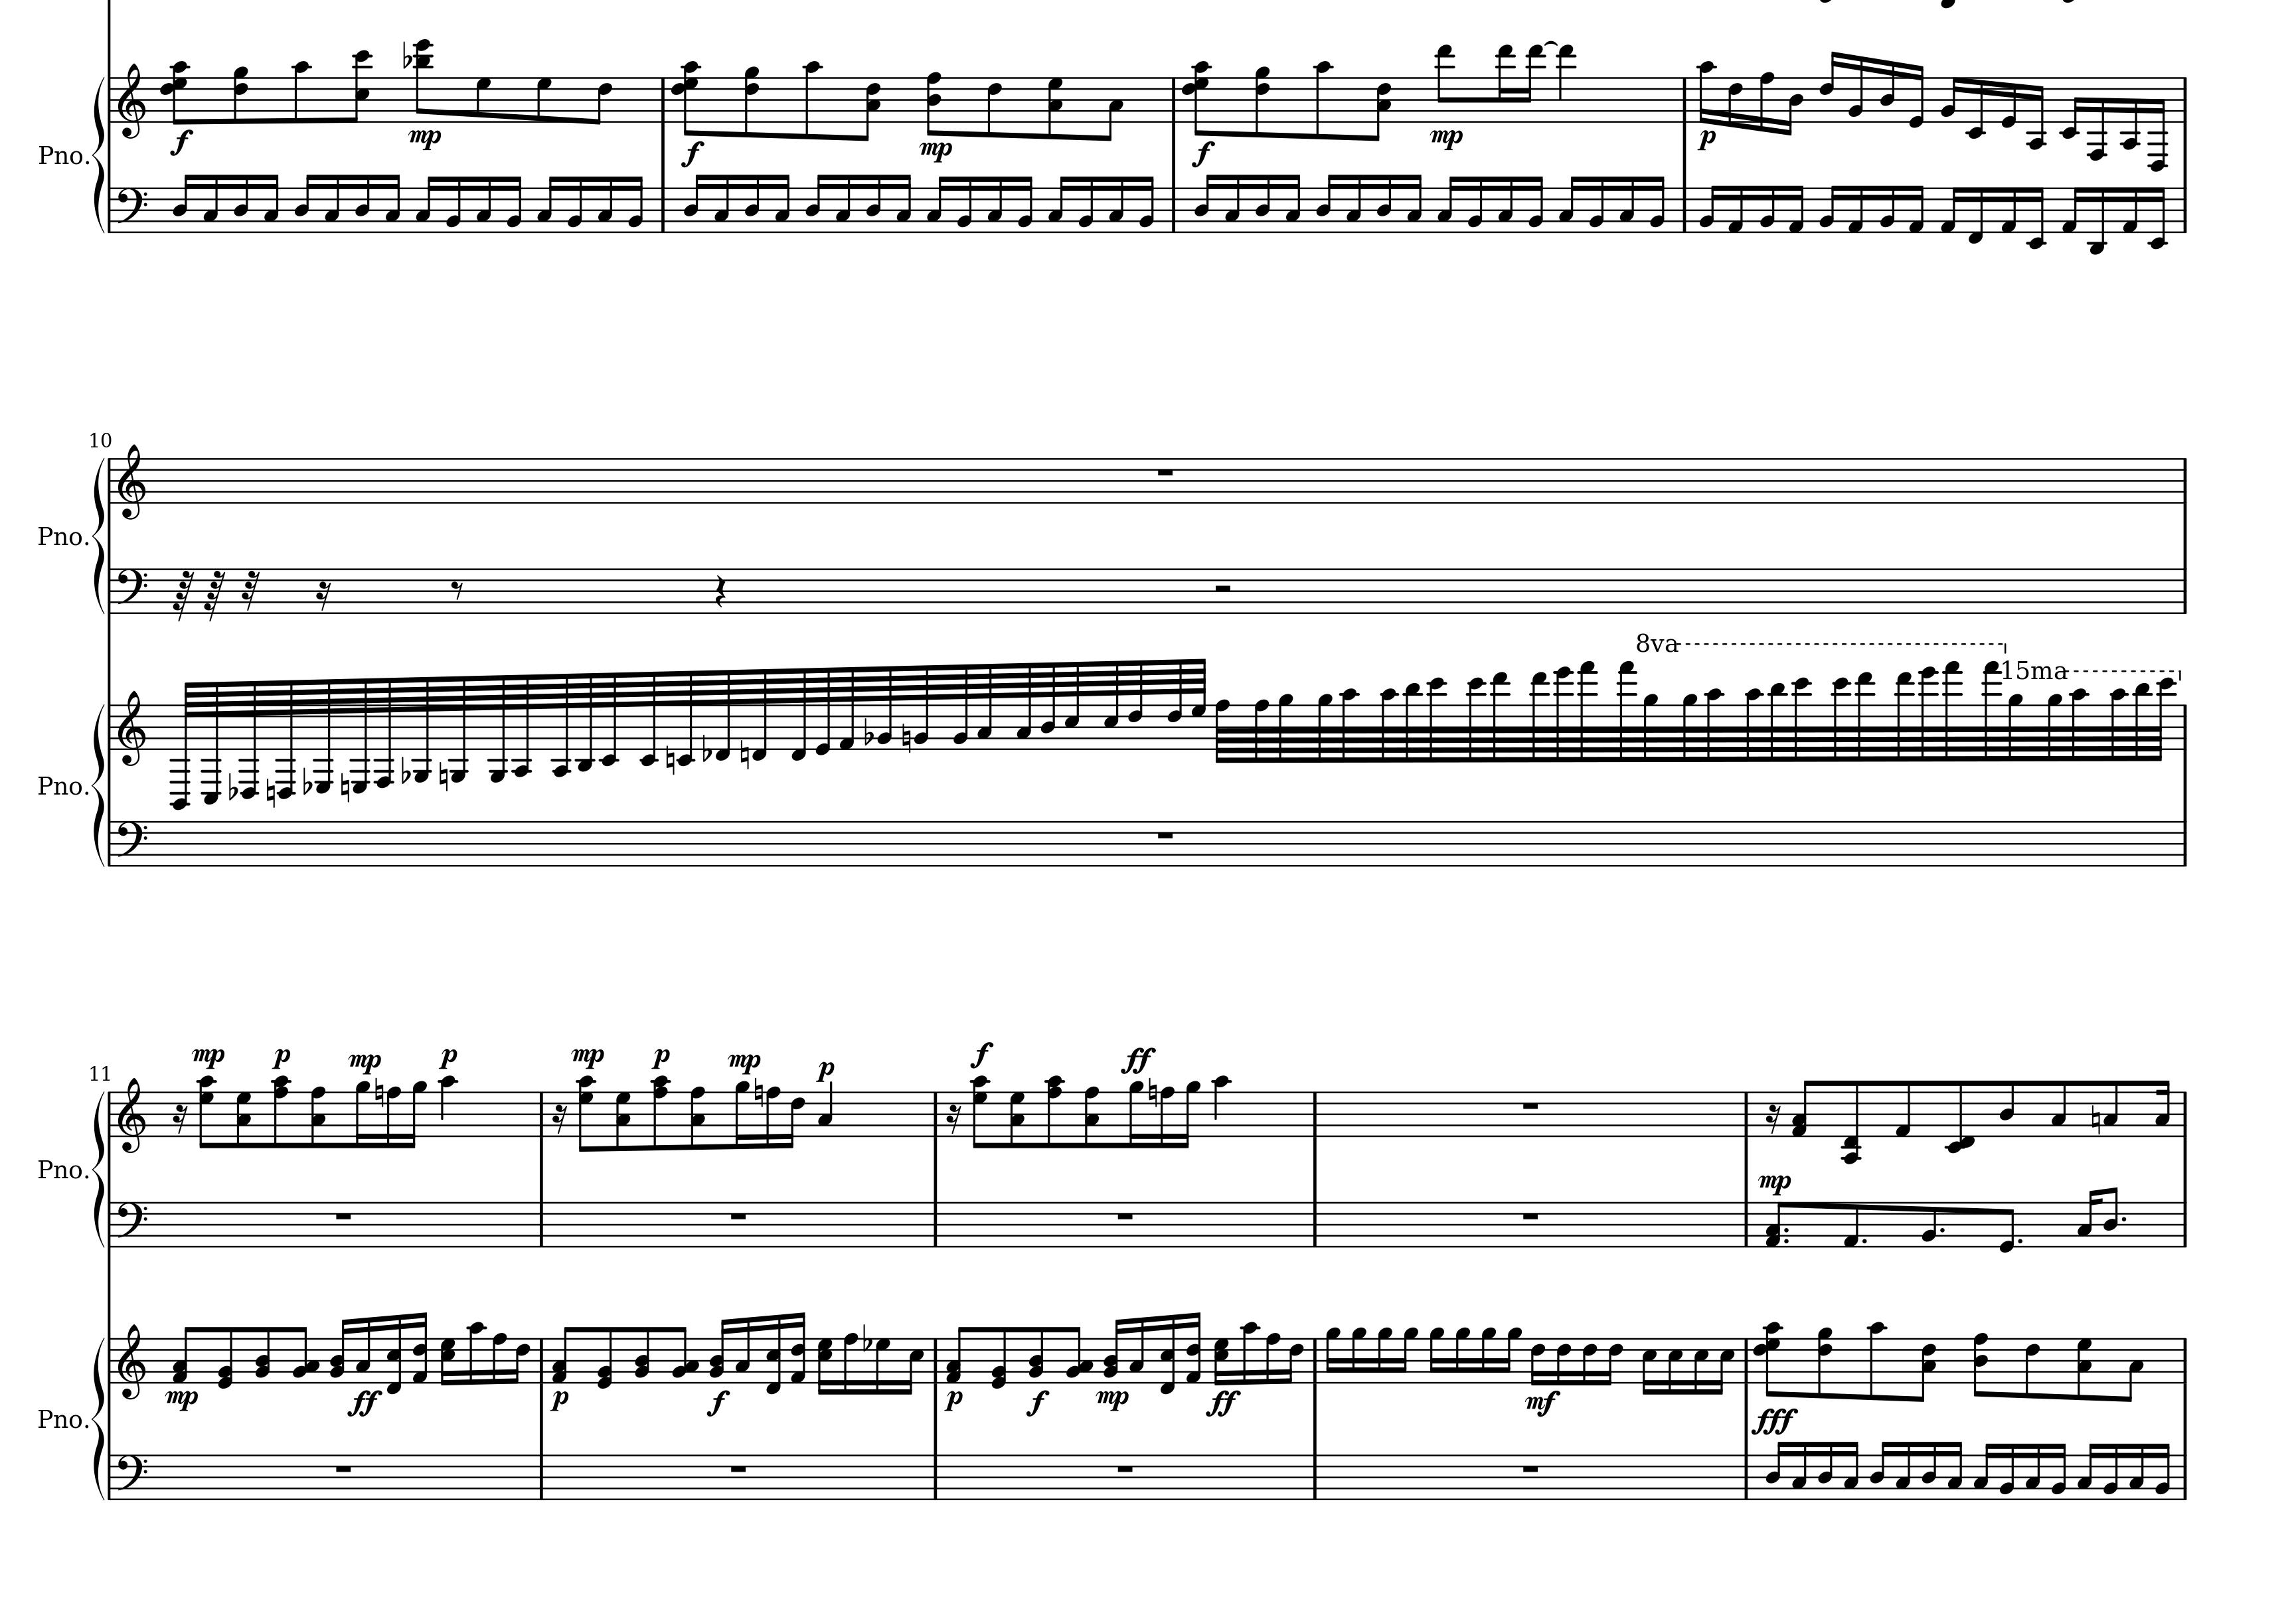0: (98, 429, 112, 448)
1: (88, 429, 98, 448)
16_-1: (1967, 184, 1985, 244)
16_-1_5: (385, 1314, 404, 1395), (764, 1314, 783, 1395), (1158, 1314, 1177, 1395)
16_-2: (2059, 76, 2082, 139), (1966, 74, 1985, 139), (2027, 184, 2047, 249), (2148, 184, 2166, 249)
16_-3: (2087, 184, 2106, 255)
16_-4: (2025, 76, 2047, 151), (2120, 74, 2141, 149)
16_-6: (2087, 74, 2106, 162)
16_-8: (2148, 76, 2168, 172)
16_0: (1908, 63, 1925, 128), (1999, 76, 2018, 128)
16_1: (1939, 184, 1962, 234), (2061, 184, 2082, 234), (1787, 183, 1806, 234), (1999, 184, 2018, 234), (1727, 183, 1744, 234), (1846, 183, 1864, 234), (1908, 183, 1925, 234), (2122, 184, 2140, 234)
16_10: (1697, 60, 1716, 123), (467, 1321, 485, 1384), (1242, 1321, 1258, 1384)
16_13: (1523, 44, 1546, 123), (1495, 42, 1516, 123)
16_1_6: (1184, 1310, 1203, 1386), (791, 1310, 808, 1386), (413, 1312, 430, 1384)
16_2: (1697, 183, 1722, 234), (1846, 53, 1864, 123), (1818, 183, 1841, 234), (444, 174, 464, 234), (504, 174, 523, 234), (566, 174, 585, 234), (625, 174, 645, 234), (1077, 174, 1096, 234), (1137, 174, 1156, 234), (1527, 174, 1546, 234), (1648, 174, 1667, 234), (1017, 174, 1035, 234), (1467, 174, 1484, 234), (1588, 174, 1606, 234), (2154, 1440, 2171, 1500), (2103, 1442, 2120, 1500), (1939, 76, 1960, 123), (957, 174, 973, 234), (1999, 1440, 2015, 1500), (2052, 1442, 2068, 1500), (1758, 183, 1776, 234), (1880, 183, 1895, 234)
16_2_4: (1103, 1317, 1124, 1386), (329, 1319, 350, 1384), (710, 1319, 731, 1382)
16_3: (1435, 172, 1460, 234), (413, 174, 437, 234), (1556, 174, 1581, 234), (2076, 1187, 2101, 1247), (536, 174, 559, 234), (926, 174, 949, 234), (1047, 174, 1070, 234), (1973, 1440, 1994, 1500), (2076, 1442, 2097, 1500), (262, 172, 281, 234), (323, 172, 343, 234), (383, 172, 402, 234), (713, 172, 733, 234), (834, 172, 854, 234), (474, 174, 494, 234), (773, 174, 792, 234), (1497, 174, 1516, 234), (734, 1316, 750, 1384), (1130, 1316, 1145, 1384), (202, 172, 220, 234), (894, 172, 912, 234), (1224, 172, 1242, 234), (1284, 172, 1302, 234), (1346, 172, 1363, 234), (1895, 1439, 1913, 1500), (597, 174, 615, 234), (1108, 174, 1126, 234), (1405, 174, 1423, 234), (1618, 174, 1635, 234), (1946, 1440, 1964, 1500), (2154, 1078, 2171, 1136), (2024, 1442, 2041, 1500), (1843, 1439, 1859, 1500), (357, 1316, 371, 1384), (987, 174, 1003, 234), (1792, 1440, 1808, 1500), (2129, 1442, 2145, 1500)
16_4: (293, 172, 316, 234), (805, 172, 827, 234), (1193, 172, 1216, 234), (172, 172, 193, 234), (683, 172, 704, 234), (1316, 172, 1337, 234), (1869, 1439, 1890, 1500), (1765, 1440, 1787, 1500), (353, 172, 372, 234), (864, 172, 884, 234), (1254, 172, 1274, 234), (1785, 76, 1804, 135), (1878, 58, 1895, 123), (234, 172, 251, 234), (745, 172, 762, 234), (1375, 172, 1393, 234), (1920, 1440, 1938, 1500), (1818, 1440, 1834, 1500)
16_5: (905, 1337, 924, 1395), (1716, 1337, 1736, 1395), (1641, 1337, 1657, 1395), (1667, 1337, 1683, 1395), (1693, 1337, 1709, 1395)
16_5_7: (817, 1337, 834, 1396), (439, 1337, 457, 1386)
16_6: (1818, 49, 1841, 123), (1602, 1337, 1625, 1386), (787, 1091, 806, 1149), (1286, 1337, 1305, 1384), (513, 1337, 531, 1386), (1727, 76, 1743, 128), (1530, 1337, 1546, 1386), (1556, 1337, 1572, 1386), (1581, 1337, 1597, 1386)
16_7: (875, 1335, 891, 1396)
16_8: (386, 1084, 402, 1149), (766, 1086, 782, 1151), (1159, 1084, 1175, 1149), (1758, 70, 1774, 133), (843, 1331, 857, 1396), (1265, 1331, 1281, 1384), (492, 1331, 506, 1384)
16_9: (406, 1078, 429, 1151), (1179, 1078, 1202, 1149), (734, 1078, 750, 1151), (1428, 1326, 1448, 1384), (1504, 1326, 1523, 1384), (1130, 1078, 1145, 1149), (355, 1078, 371, 1147), (1377, 1326, 1395, 1384), (1402, 1326, 1419, 1384), (1455, 1326, 1472, 1384), (1479, 1326, 1497, 1384), (1326, 1326, 1342, 1384), (1353, 1326, 1368, 1384)
4_10: (1212, 1073, 1233, 1136), (441, 1075, 458, 1136)
4_13: (1556, 44, 1576, 125)
4_3: (817, 1082, 834, 1136)
64_-1: (750, 666, 769, 761), (789, 666, 808, 761), (715, 669, 733, 762)
64_-10: (169, 682, 193, 810)
64_-2: (639, 669, 659, 766), (676, 669, 696, 766), (601, 669, 618, 766)
64_-3: (576, 671, 596, 773)
64_-4: (552, 671, 571, 780), (513, 673, 532, 778)
64_-5: (411, 676, 432, 783), (446, 674, 467, 782), (490, 674, 508, 783)
64_-6: (374, 676, 395, 789)
64_-7: (348, 676, 371, 794), (313, 678, 334, 794)
64_-8: (237, 680, 260, 799), (276, 678, 299, 797)
64_-9: (200, 680, 221, 804)
64_0: (813, 666, 833, 755)
64_1: (838, 666, 856, 752)
64_10: (1340, 687, 1360, 762), (2069, 687, 2089, 762), (1379, 685, 1397, 762), (2110, 685, 2127, 762), (1706, 685, 1723, 761), (1744, 687, 1762, 762)
64_11: (2133, 680, 2152, 762), (1404, 680, 1421, 764), (1769, 682, 1787, 762)
64_12: (1425, 676, 1446, 764), (2155, 676, 2177, 764), (1467, 674, 1486, 764), (1792, 674, 1811, 762), (1832, 676, 1852, 762)
64_13: (1530, 671, 1549, 762), (1491, 669, 1509, 762), (1857, 671, 1874, 764), (1895, 671, 1913, 764)
64_14: (1553, 666, 1574, 762), (1918, 666, 1939, 762)
64_15: (1576, 660, 1599, 762), (1982, 660, 2003, 764), (1616, 660, 1637, 762), (1943, 659, 1962, 762)
64_2: (913, 664, 931, 750), (877, 666, 894, 750), (952, 662, 968, 750)
64_3: (1015, 660, 1033, 750), (977, 662, 993, 750)
64_4: (1040, 660, 1056, 750)
64_5: (1101, 659, 1119, 750), (1063, 660, 1080, 750)
64_6: (1126, 659, 1144, 750), (1166, 659, 1184, 748)
64_7: (1191, 659, 1207, 752)
64_8: (1214, 696, 1231, 764), (1254, 696, 1270, 764)
64_9: (1277, 692, 1295, 764), (1318, 692, 1333, 764), (1683, 692, 1699, 764), (2008, 690, 2024, 762), (1643, 692, 1658, 762), (2048, 690, 2062, 762)
8_-2_-1: (1943, 1078, 1978, 1154)
8_-4_-1: (1839, 1078, 1864, 1165)
8_0: (1999, 1201, 2017, 1252)
8_0_2: (216, 1326, 234, 1389), (596, 1326, 613, 1389), (991, 1326, 1008, 1389)
8_1: (1894, 1078, 1911, 1138), (1843, 1200, 1860, 1247)
8_10: (803, 58, 826, 141), (1312, 58, 1335, 141), (1867, 1319, 1887, 1402), (292, 58, 313, 125)
8_11_14: (413, 35, 436, 123)
8_13: (1435, 42, 1455, 121)
8_1_3: (1790, 1078, 1816, 1138), (945, 1326, 970, 1384), (172, 1326, 197, 1382), (552, 1326, 574, 1384), (1765, 1200, 1787, 1247)
8_2: (1922, 1200, 1938, 1249)
8_2_3: (1065, 1326, 1094, 1384), (292, 1324, 320, 1384), (671, 1326, 699, 1384)
8_2_4: (1028, 1326, 1045, 1386), (255, 1326, 271, 1386), (634, 1326, 650, 1384)
8_3: (1103, 74, 1126, 142), (2122, 1337, 2145, 1403), (2050, 1078, 2068, 1138), (2103, 1078, 2119, 1136)
8_3_6: (857, 76, 882, 142), (1370, 76, 1393, 142), (1918, 1337, 1938, 1403)
8_3_7: (1047, 74, 1065, 141), (1008, 1091, 1026, 1151), (2076, 1337, 2092, 1400), (615, 1091, 631, 1152)
8_3_8: (1084, 1086, 1101, 1149), (690, 1086, 706, 1151), (311, 1086, 327, 1149), (235, 1091, 251, 1149)
8_4: (1999, 1078, 2015, 1136), (2105, 1186, 2119, 1247)
8_4_8: (926, 70, 943, 137), (1973, 1331, 1990, 1398)
8_5_10: (346, 47, 372, 123)
8_6: (590, 76, 613, 125), (2024, 1337, 2041, 1400), (987, 76, 1003, 139)
8_6_9: (743, 65, 762, 139), (1254, 65, 1272, 139), (1816, 1326, 1834, 1398), (232, 65, 249, 125)
8_7: (536, 76, 553, 123), (476, 76, 492, 123)
8_7_10: (968, 1075, 991, 1151), (574, 1075, 596, 1152), (195, 1075, 216, 1149)
8_8_10: (1042, 1075, 1066, 1151), (271, 1075, 292, 1151), (650, 1075, 671, 1151)
8_th: (1755, 1319, 1785, 1398), (671, 63, 703, 137), (158, 58, 190, 125)
Brace: (90, 699, 105, 868), (90, 1333, 105, 1502), (91, 453, 105, 615), (91, 1089, 105, 1249), (91, 76, 105, 234)
Fclef: (114, 181, 153, 234), (114, 817, 155, 864), (114, 566, 148, 615), (114, 1200, 148, 1247), (114, 1453, 148, 1500)
Flat: (401, 39, 413, 69), (399, 755, 411, 785), (863, 715, 873, 747), (861, 1321, 871, 1352), (227, 771, 237, 801), (302, 766, 313, 796), (701, 732, 711, 762)
Gclef: (118, 687, 155, 775), (116, 60, 151, 142), (116, 441, 149, 522), (118, 1075, 148, 1154), (118, 1324, 146, 1398)
Natural: (2089, 1103, 2101, 1136), (339, 769, 350, 804), (437, 759, 448, 792), (740, 738, 750, 771), (901, 720, 912, 754), (664, 743, 675, 775), (372, 1075, 383, 1107), (1147, 1077, 1158, 1108), (265, 776, 274, 810), (754, 1075, 762, 1107)
Pno: (39, 141, 83, 167), (35, 523, 83, 546), (37, 1158, 81, 1180), (37, 775, 83, 796), (37, 1407, 83, 1428)
Rests1: (727, 1208, 750, 1221), (727, 1463, 750, 1475), (1156, 829, 1177, 841), (1520, 1208, 1541, 1221), (1520, 1461, 1541, 1474), (1156, 465, 1175, 478), (1212, 581, 1233, 592), (332, 1210, 353, 1221), (1114, 1463, 1135, 1474), (1521, 1100, 1541, 1110), (1116, 1210, 1135, 1221), (334, 1463, 353, 1474)
Rests16: (552, 1103, 567, 1136), (314, 580, 330, 611), (172, 1103, 188, 1135), (1765, 1103, 1781, 1133), (947, 1103, 961, 1135)
Rests32: (241, 569, 258, 611)
Rests4: (713, 574, 727, 608)
Rests64: (172, 569, 193, 624), (204, 569, 225, 622)
Rests8: (450, 580, 464, 599)
Single_barline: (926, 1201, 945, 1247), (1305, 1201, 1325, 1247), (1165, 76, 1182, 123), (1307, 1091, 1325, 1136), (532, 1201, 550, 1247), (655, 76, 671, 121), (2177, 457, 2192, 502), (2177, 704, 2192, 750), (534, 1091, 550, 1136), (2177, 1091, 2192, 1136), (534, 1337, 550, 1382), (2177, 1337, 2192, 1382), (928, 1337, 943, 1382), (1307, 1453, 1323, 1498), (2177, 1454, 2192, 1500), (1678, 77, 1693, 121), (928, 1091, 943, 1135), (1739, 1091, 1755, 1135), (1739, 1201, 1755, 1245), (1739, 1338, 1755, 1382), (534, 1454, 550, 1498), (928, 1454, 943, 1498), (1739, 1454, 1755, 1498), (657, 186, 671, 232), (1166, 186, 1180, 232), (1678, 186, 1692, 232), (2177, 188, 2191, 234), (2177, 567, 2191, 613), (104, 820, 118, 866), (2177, 820, 2191, 866), (2177, 1201, 2191, 1247), (1309, 1337, 1323, 1382), (104, 1454, 118, 1498), (2178, 76, 2191, 121), (104, 457, 116, 502), (104, 567, 116, 613), (104, 704, 116, 750), (105, 1091, 118, 1136), (104, 1201, 116, 1247), (104, 1337, 116, 1382), (105, 77, 116, 121), (105, 188, 116, 232)
dot: (1938, 1223, 1948, 1235), (1781, 1224, 1790, 1235), (2015, 1235, 2024, 1245), (1860, 1235, 1869, 1245), (1781, 1237, 1790, 1245), (2120, 1214, 2127, 1223)
f: (678, 137, 710, 170), (1188, 137, 1219, 170), (167, 126, 197, 156), (966, 1038, 996, 1068), (704, 1389, 731, 1416), (1024, 1389, 1051, 1416)
ff: (1121, 1045, 1156, 1073), (346, 1389, 381, 1417), (1205, 1389, 1240, 1417)
fff: (1751, 1403, 1799, 1437)
mf: (1523, 1389, 1560, 1416)
mp: (917, 135, 956, 165), (406, 126, 443, 153), (1428, 126, 1463, 153), (571, 1043, 606, 1068), (346, 1050, 383, 1073), (163, 1388, 200, 1410), (193, 1043, 227, 1068), (727, 1050, 762, 1073), (1096, 1389, 1130, 1412), (1757, 1172, 1792, 1193)
p: (1695, 126, 1718, 155), (437, 1045, 460, 1070), (650, 1045, 671, 1070), (550, 1388, 571, 1412), (271, 1047, 292, 1070), (943, 1389, 966, 1410), (817, 1061, 834, 1082)
